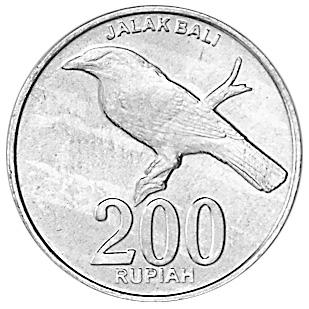coin_200_e2003: (5, 3, 304, 304)
